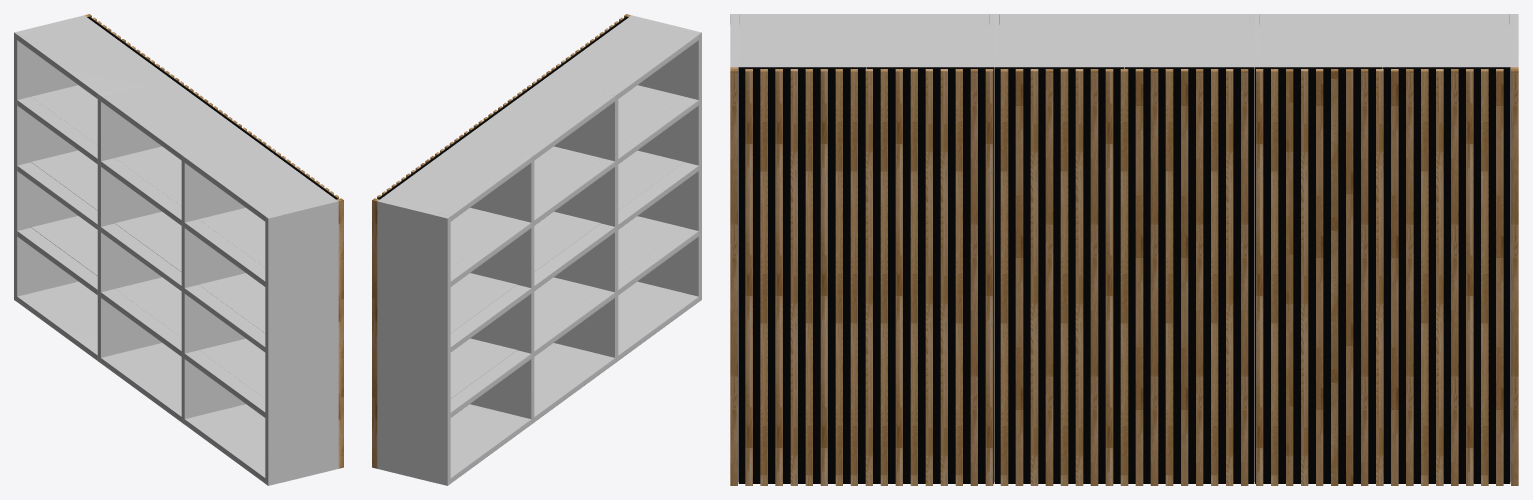
Rendered from alterita131_dvere.glb.
The picture shows the model from 3 angles, left to right: view 1: azimuth 30°, elevation 25°; view 2: azimuth 150°, elevation 25°; view 3: azimuth 270°, elevation 25°; orthographic projection. The views are drawn at different scales.
Visible parts, largest first — view 1: Object_2, Object_10, Object_9; view 2: Object_2, Object_10, Object_9; view 3: Object_10, Object_9, Object_4, Object_2, Object_3, Object_7.
Boxes of the visible parts, left/top/right/bottom form: Object_2: left=14, top=15, right=338, bottom=485; Object_10: left=85, top=14, right=343, bottom=468; Object_9: left=87, top=16, right=337, bottom=199; Object_2: left=377, top=15, right=701, bottom=485; Object_10: left=372, top=14, right=630, bottom=468; Object_9: left=378, top=16, right=628, bottom=199; Object_10: left=730, top=67, right=1518, bottom=485; Object_9: left=738, top=67, right=1510, bottom=483; Object_4: left=739, top=69, right=993, bottom=483; Object_2: left=730, top=14, right=1518, bottom=481; Object_3: left=995, top=69, right=1120, bottom=483; Object_7: left=1128, top=69, right=1253, bottom=483.
Size of the model in its own units: 53.8 by 182 by 314.
3 materials, 1 textured.
